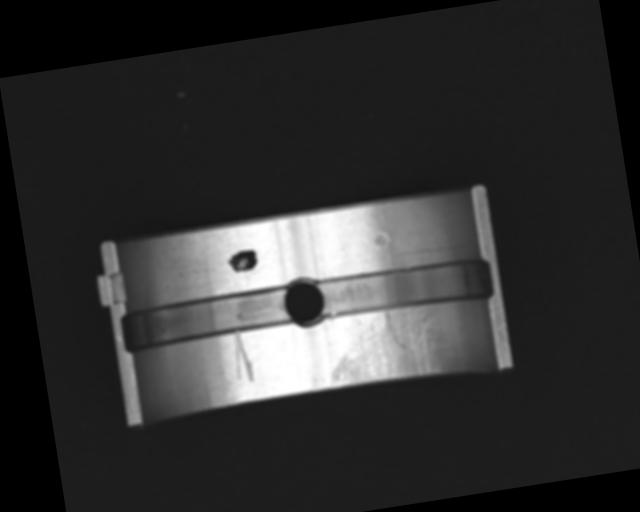blot: (224, 247, 259, 274)
bruise: (373, 230, 390, 251)
gap: (315, 253, 496, 325), (119, 286, 290, 351)
hole: (280, 274, 327, 329)
nick: (228, 327, 256, 383)
scratch: (321, 301, 445, 391)
